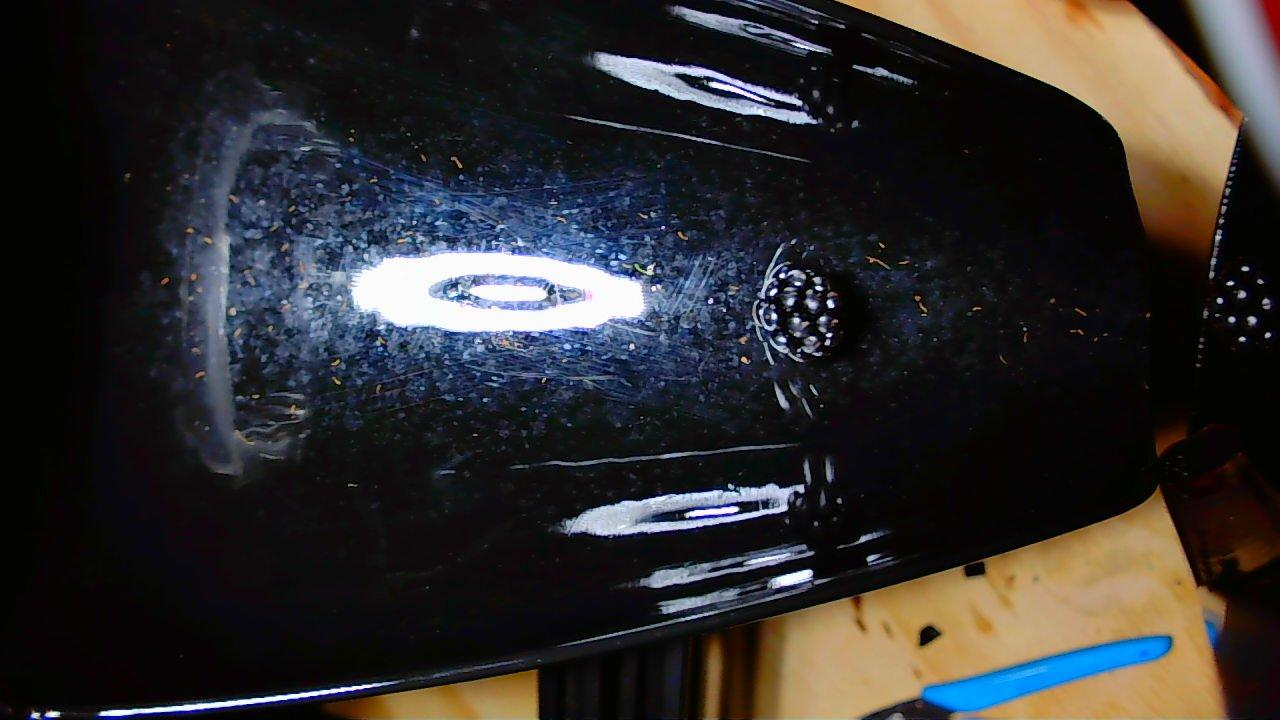berry: (755, 262, 840, 361), (1205, 258, 1279, 357)
